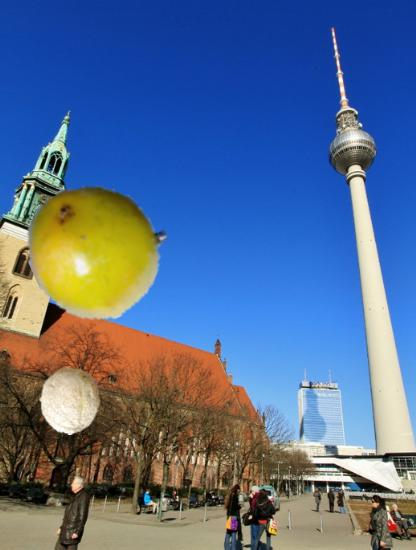Cantaloupe: (36, 367, 104, 435)
Maracuja: (29, 179, 170, 320)
